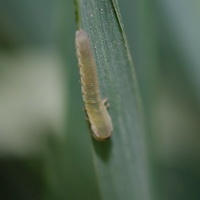insect: (75, 29, 112, 140), (75, 30, 112, 140)
